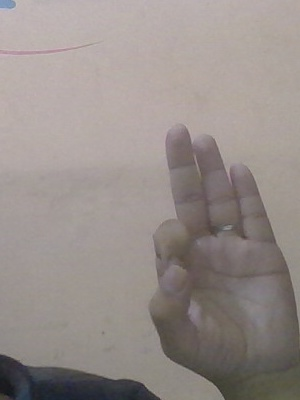F: (145, 119, 300, 381)
